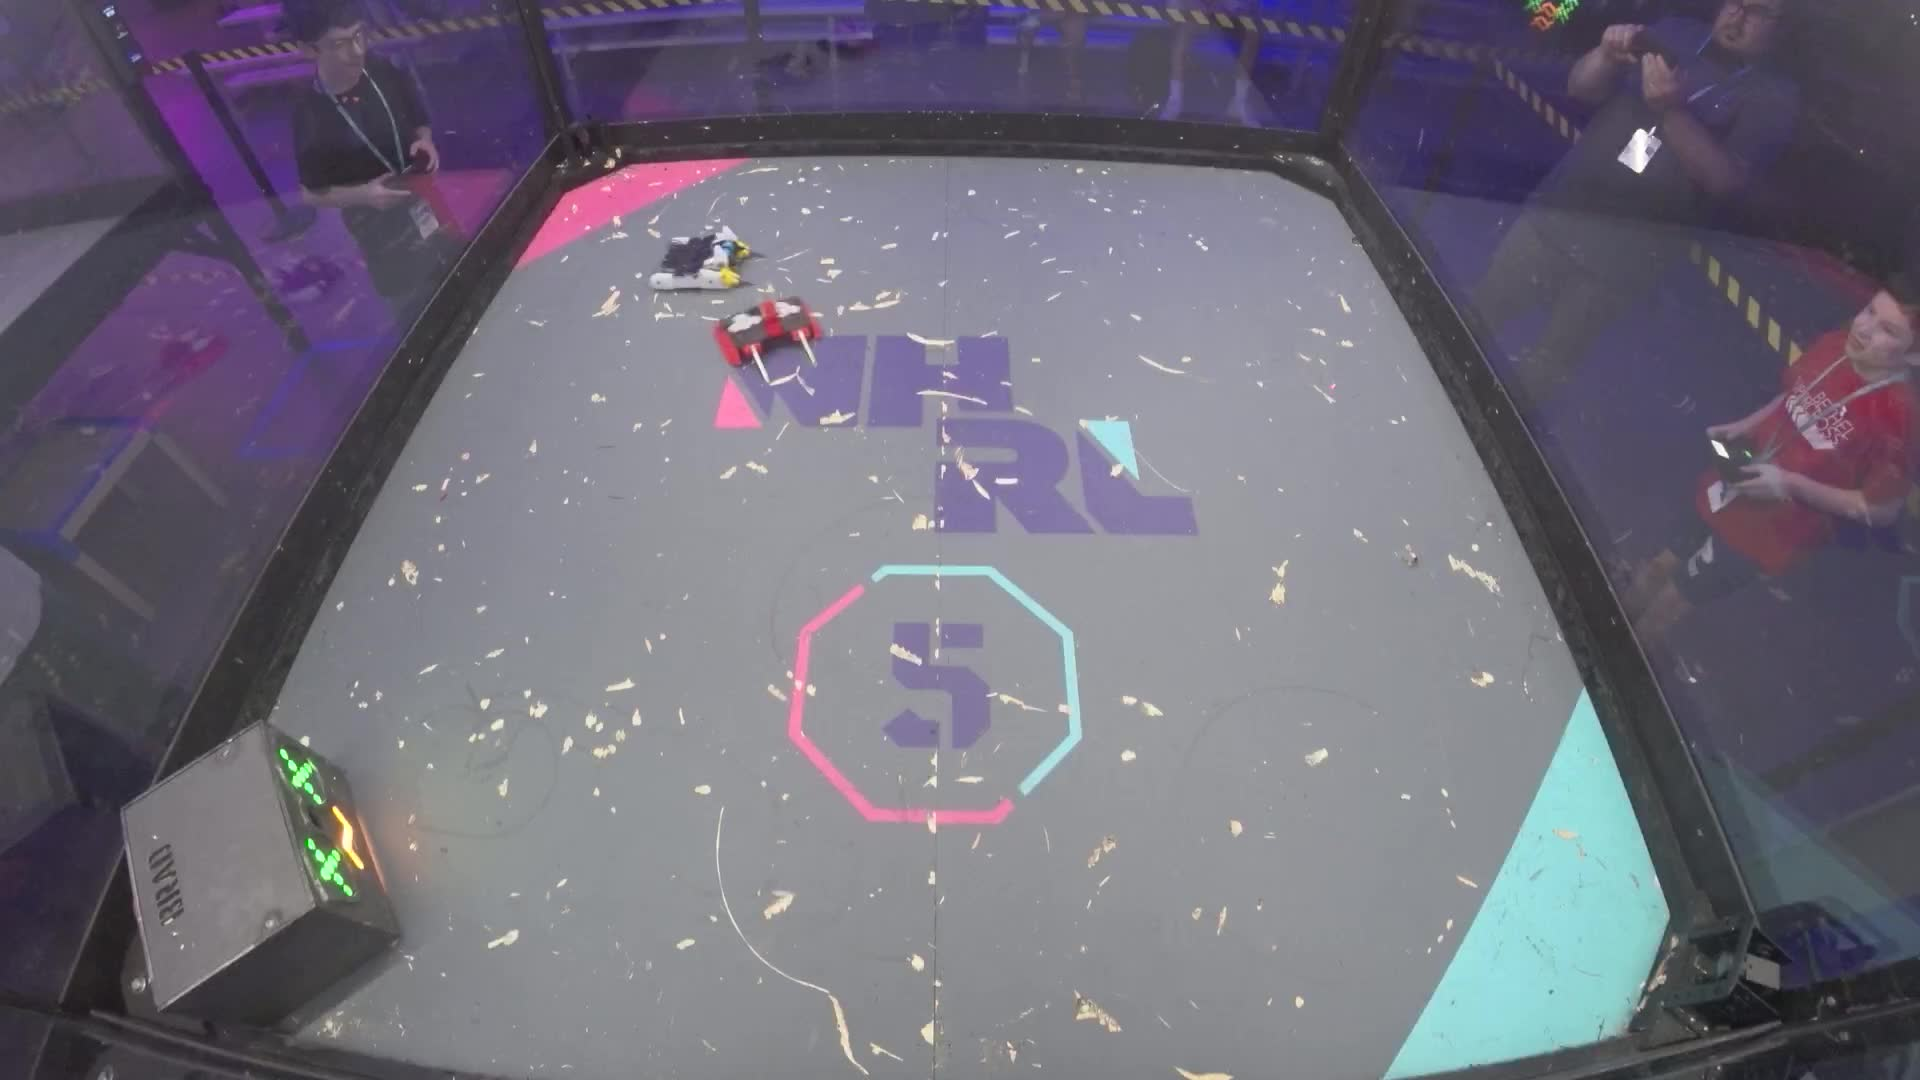combatbot: (709, 294, 825, 365), (657, 222, 758, 289)
housebot: (116, 719, 404, 1019)
